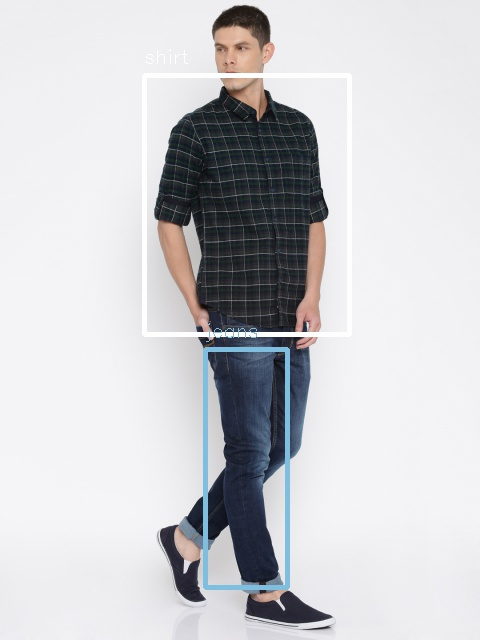jeans: (113, 512, 359, 640)
shirt: (65, 143, 368, 498)
